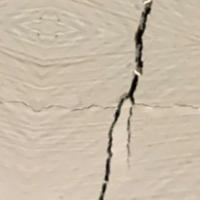crack: (78, 0, 164, 199)
